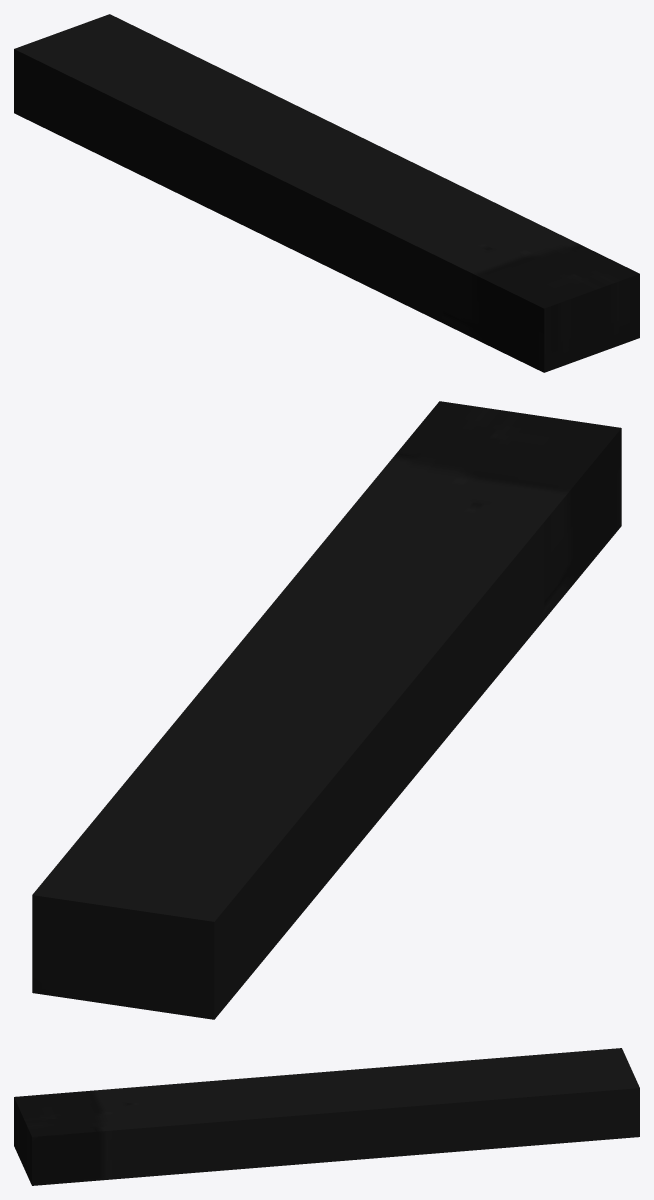
Rendered from frame__seat_upright_0.glb.
3 views of the same model, one above another, from view 1: azimuth 30°, elevation 25°; view 2: azimuth 150°, elevation 25°; view 3: azimuth 270°, elevation 25° (orthographic). The views are drawn at different scales.
Visible parts, largest first — view 1: world; view 2: world; view 3: world.
Boxes of the visible parts, x1=… form: world: x1=14, y1=14, x2=639, y2=372; world: x1=32, y1=401, x2=621, y2=1019; world: x1=14, y1=1048, x2=639, y2=1185.
Size of the model in its own units: 0.1091 by 0.028 by 0.3244.
1 material, 1 textured.
